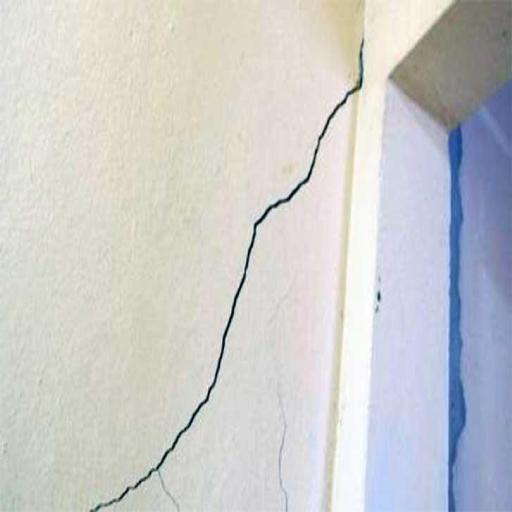spalling: (93, 41, 370, 509)
